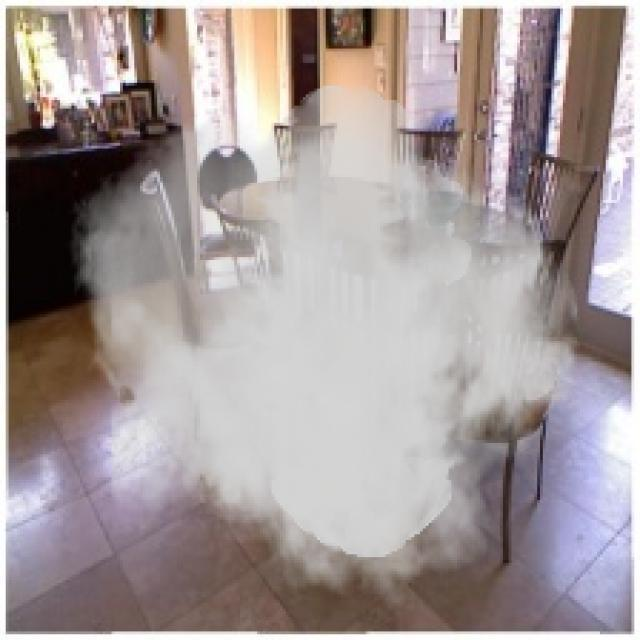Smoke: (65, 83, 586, 612)
